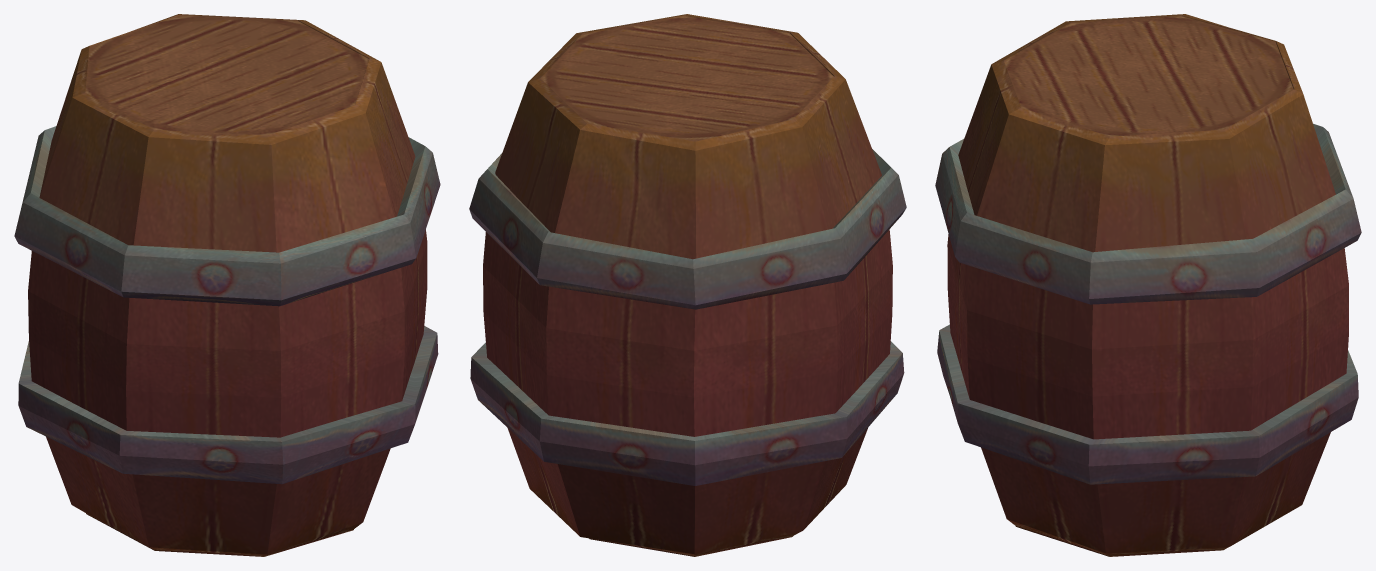
File: barrel_Destructed.FBX
3 views of the same model, side by side, from view 1: azimuth 30°, elevation 25°; view 2: azimuth 150°, elevation 25°; view 3: azimuth 270°, elevation 25° (orthographic).
Visible parts, largest first — view 1: Object2821, Object2822, Cylinder002, Object2828, Object2819, Object2820, Object2823, Object2827; view 2: Object2826, Object2827, Object2828, Object2819, Object2820, Object2825, Cylinder002; view 3: Object2824, Object2823, Object2825, Object2828, Object2819, Object2820, Object2822.
Part boxes in pixels (left/top/right/bottom): Object2821: left=126, top=129, right=281, bottom=556; Object2822: left=265, top=105, right=404, bottom=555; Cylinder002: left=28, top=92, right=153, bottom=546; Object2828: left=85, top=15, right=369, bottom=135; Object2819: left=14, top=126, right=440, bottom=306; Object2820: left=18, top=326, right=438, bottom=484; Object2823: left=355, top=58, right=427, bottom=400; Object2827: left=39, top=46, right=89, bottom=197; Object2826: left=546, top=123, right=696, bottom=555; Object2827: left=694, top=119, right=837, bottom=555; Object2828: left=541, top=16, right=833, bottom=141; Object2819: left=469, top=149, right=906, bottom=309; Object2820: left=470, top=341, right=904, bottom=485; Object2825: left=483, top=78, right=586, bottom=536; Cylinder002: left=793, top=76, right=892, bottom=529; Object2824: left=1092, top=129, right=1252, bottom=556; Object2823: left=967, top=107, right=1109, bottom=555; Object2825: left=1224, top=89, right=1348, bottom=546; Object2828: left=1004, top=16, right=1293, bottom=136; Object2819: left=935, top=123, right=1361, bottom=304; Object2820: left=937, top=324, right=1358, bottom=484; Object2822: left=947, top=61, right=1020, bottom=398.
Size of the model in its own units: 2.21 by 2.4 by 2.21.
1 material, 1 textured.
